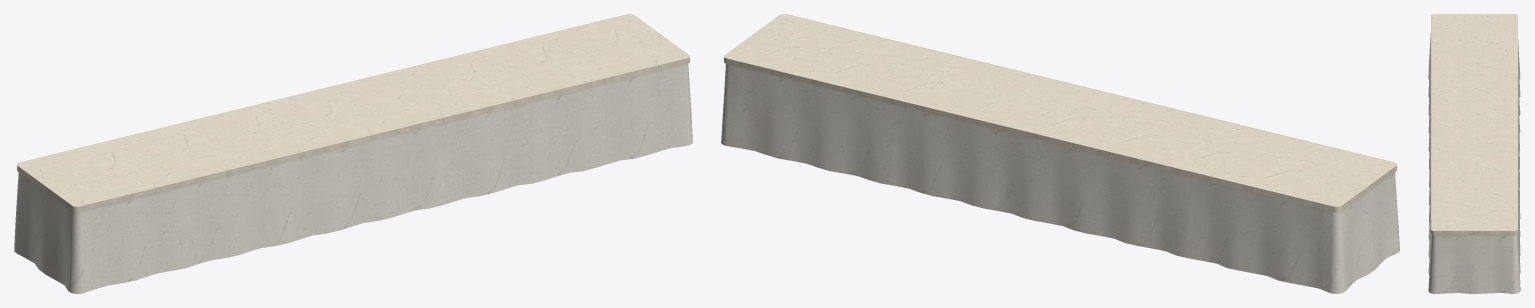
The model's file is head_table.glb.
3 views of the same model, side by side, from view 1: azimuth 30°, elevation 25°; view 2: azimuth 150°, elevation 25°; view 3: azimuth 270°, elevation 25° (orthographic). The views are drawn at different scales.
Visible parts, largest first — view 1: head_table; view 2: head_table; view 3: head_table.
Part boxes in pixels (x1,y1,x2,y2): head_table: [14, 14, 692, 293]; head_table: [721, 14, 1399, 293]; head_table: [1428, 14, 1520, 293].
Size of the model in its own units: 6.07 by 0.8042 by 1.08.
Materials: 1 (1 with a texture image).
